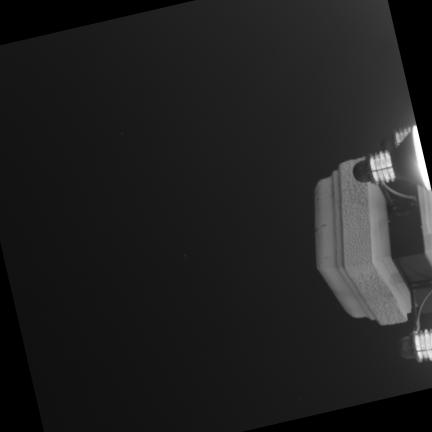Shahed: (184, 251, 188, 260)
